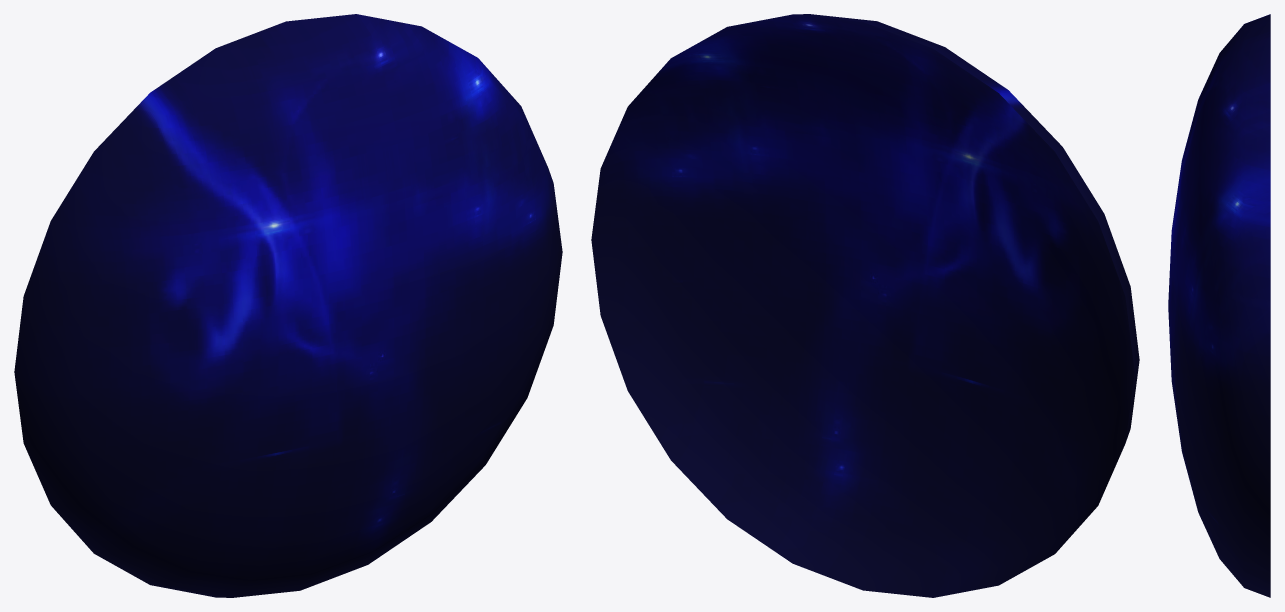
Rendered from shield-contact.fbx.
The picture shows the model from 3 angles, left to right: view 1: azimuth 30°, elevation 25°; view 2: azimuth 150°, elevation 25°; view 3: azimuth 270°, elevation 25°; orthographic projection. The views are drawn at different scales.
Parts seen in each view (by area): view 1: shield-contact_1; view 2: shield-contact_1; view 3: shield-contact_1.
Part boxes in pixels (box(x1,y1,x2,y2)): shield-contact_1: box(14, 14, 562, 597); shield-contact_1: box(591, 14, 1139, 597); shield-contact_1: box(1168, 14, 1270, 597).
Size of the model in its own units: 800 by 800 by 140.
1 material, 1 textured.
